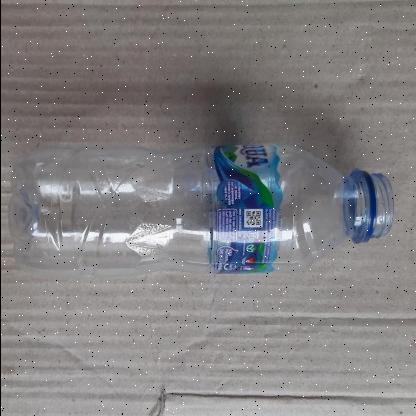Plastic Bottle: (8, 144, 392, 274)
